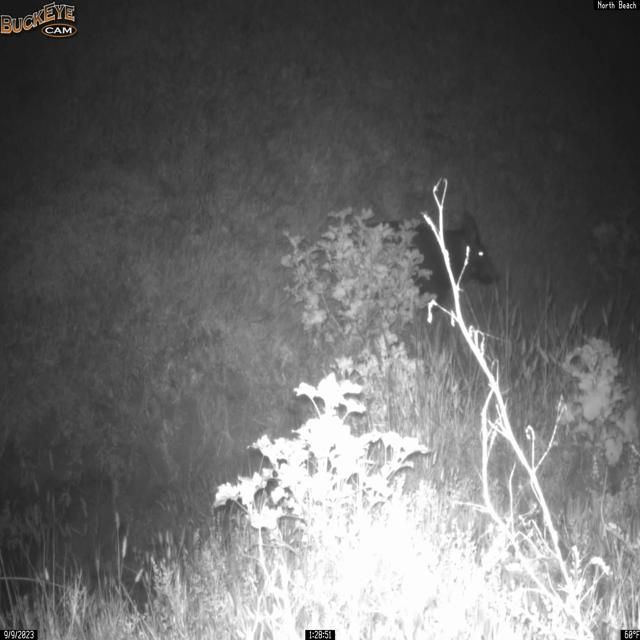pig: (360, 208, 500, 313)
